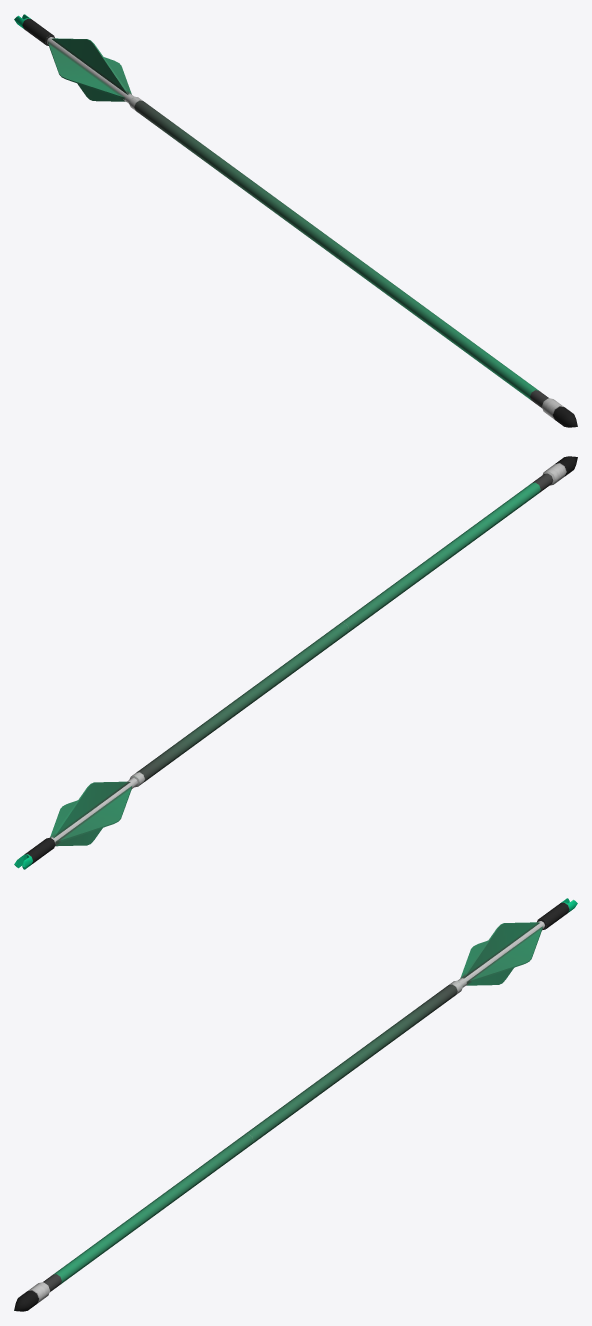
Rendered from arrow_a.glb.
3 renders of one model, top to bottom at view 1: azimuth 30°, elevation 25°; view 2: azimuth 150°, elevation 25°; view 3: azimuth 330°, elevation 25°, orthographic.
Parts seen in each view (by area): view 1: arrow_low_a, fl_a_01, fl_a_03; view 2: arrow_low_a, fl_a_01, fl_a_03; view 3: arrow_low_a, fl_a_01, fl_a_04.
Boxes of the visible parts, x1,y1,x2,y2 form: arrow_low_a: [14, 14, 577, 427]; fl_a_01: [52, 38, 129, 94]; fl_a_03: [48, 41, 124, 99]; arrow_low_a: [14, 456, 577, 869]; fl_a_01: [52, 781, 130, 838]; fl_a_03: [55, 786, 131, 843]; arrow_low_a: [14, 898, 577, 1311]; fl_a_01: [461, 922, 539, 978]; fl_a_04: [466, 926, 542, 983].
Bounding box in the file's own units: 0.0448 × 0.0448 × 0.7635.
2 materials, 2 textured.
